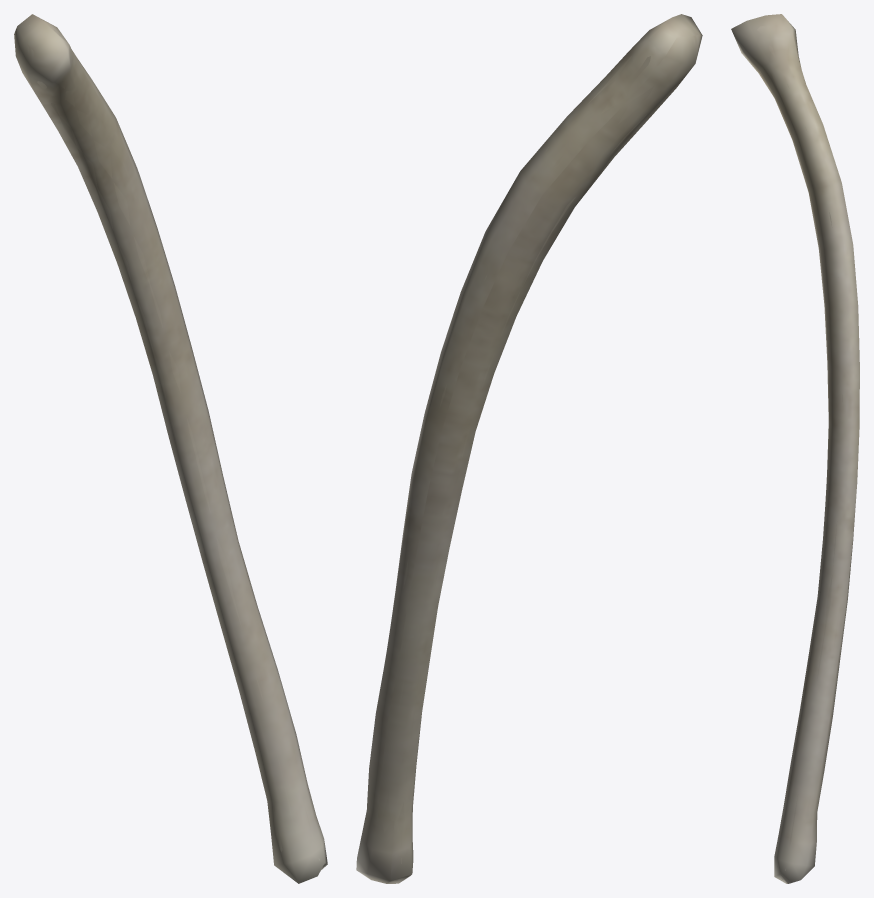
Rendered from Rib L05.fbx.
3 renders of one model, left to right at view 1: azimuth 30°, elevation 25°; view 2: azimuth 150°, elevation 25°; view 3: azimuth 270°, elevation 25°, orthographic. The views are drawn at different scales.
Parts seen in each view (by area): view 1: Rib L05 low, Rib L05; view 2: Rib L05 low, Rib L05; view 3: Rib L05 low, Rib L05.
Boxes of the visible parts, bbox=[...] form: Rib L05 low: bbox=[14, 14, 327, 883]; Rib L05: bbox=[29, 25, 324, 860]; Rib L05 low: bbox=[356, 14, 702, 883]; Rib L05: bbox=[368, 28, 675, 880]; Rib L05 low: bbox=[731, 14, 859, 883]; Rib L05: bbox=[754, 26, 854, 880].
Bounding box in the file's own units: 2.21 × 6.2 × 0.9561.
Materials: 1 (1 with a texture image).
